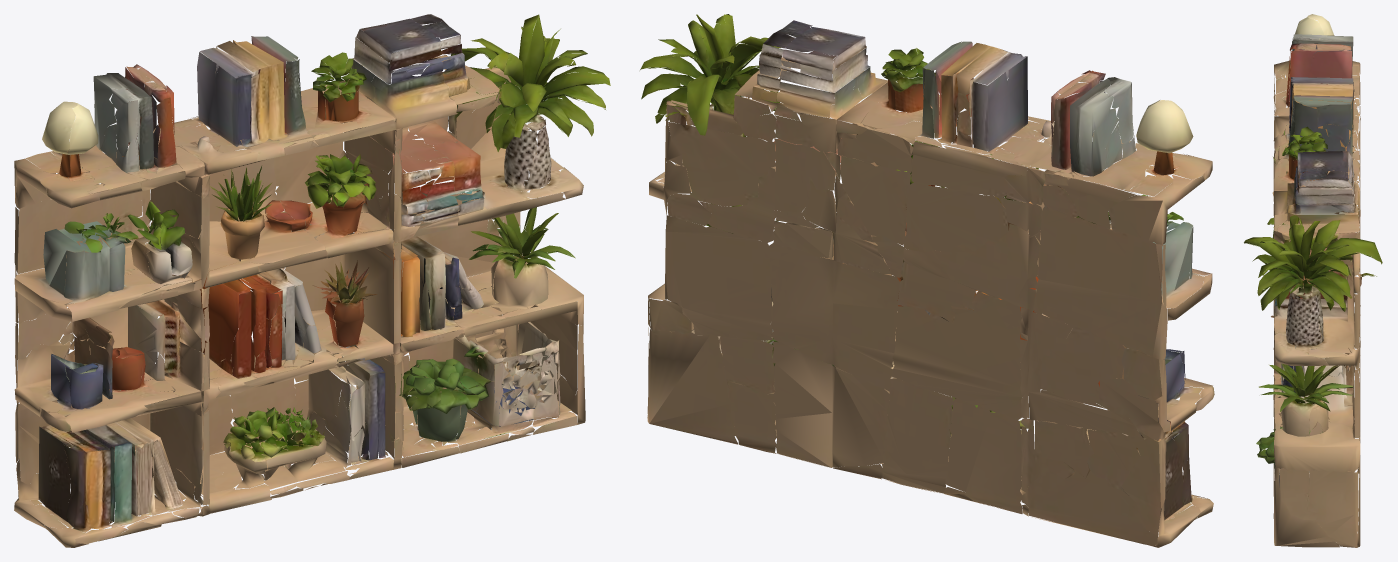
Rendered from shelf.glb.
3 renders of one model, left to right at view 1: azimuth 30°, elevation 25°; view 2: azimuth 150°, elevation 25°; view 3: azimuth 270°, elevation 25°, orthographic. The views are drawn at different scales.
Visible parts, largest first — view 1: scandi_bookshelf_3d_model; view 2: scandi_bookshelf_3d_model; view 3: scandi_bookshelf_3d_model.
Part boxes in pixels (box(x1,y1,x2,y2)): scandi_bookshelf_3d_model: box(14, 14, 610, 547); scandi_bookshelf_3d_model: box(640, 14, 1214, 547); scandi_bookshelf_3d_model: box(1244, 14, 1382, 547).
Bounding box in the file's own units: 0.9769 × 0.7336 × 0.2731.
1 material, 1 textured.
